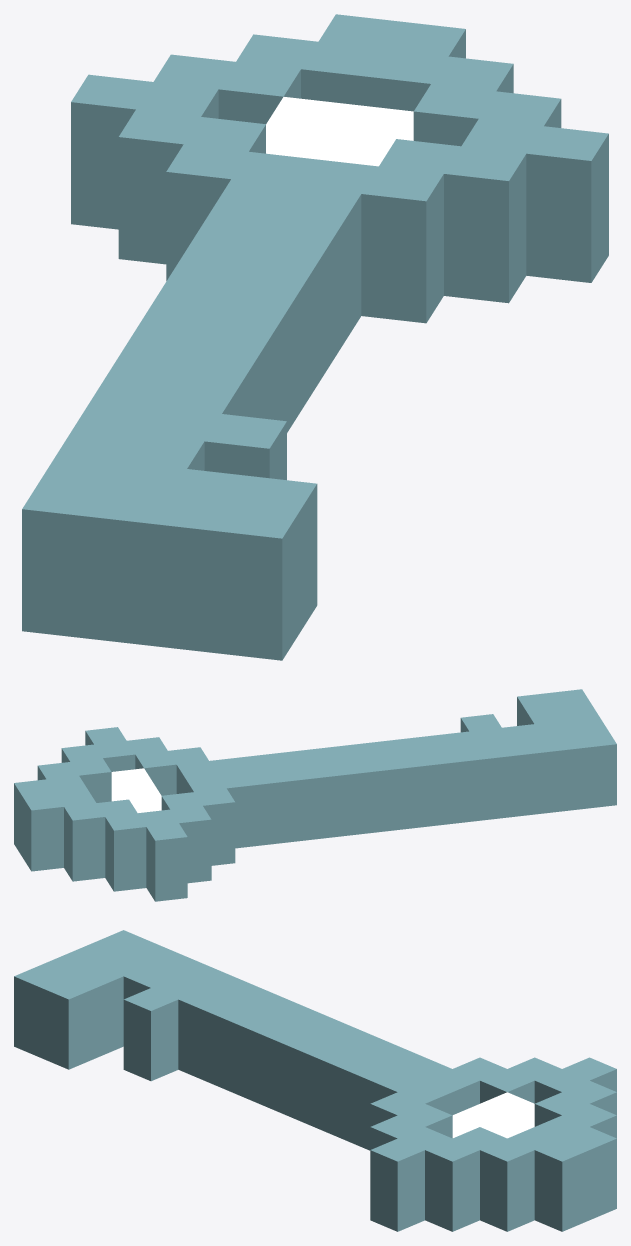
The model's file is item_CRYSTAL_KEY.glb.
3 views of the same model, one above another, from view 1: azimuth 30°, elevation 25°; view 2: azimuth 150°, elevation 25°; view 3: azimuth 270°, elevation 25° (orthographic). The views are drawn at different scales.
Parts seen in each view (by area): view 1: item_CRYSTAL_KEY; view 2: item_CRYSTAL_KEY; view 3: item_CRYSTAL_KEY.
Boxes of the visible parts, x1,y1,x2,y2 form: item_CRYSTAL_KEY: [22, 14, 608, 660]; item_CRYSTAL_KEY: [14, 689, 616, 901]; item_CRYSTAL_KEY: [14, 930, 616, 1231].
Size of the model in its own units: 0.3214 by 0.0455 by 0.3536.
1 material, 1 textured.
